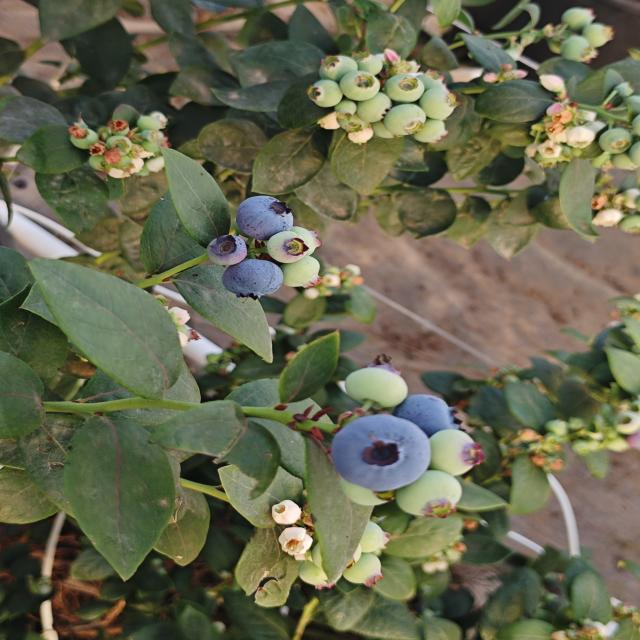ripe: (328, 412, 433, 494), (233, 194, 296, 243), (219, 258, 286, 302), (399, 388, 456, 434)
